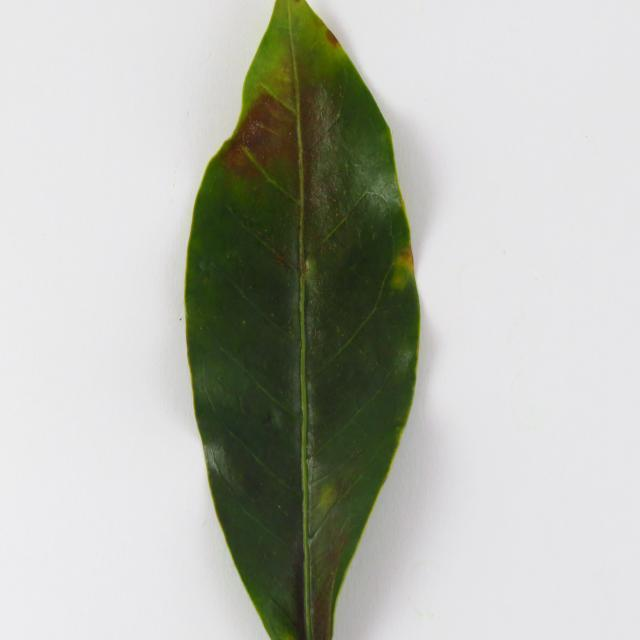DeficienciaNutricional-Fosforo: (185, 2, 420, 638)
